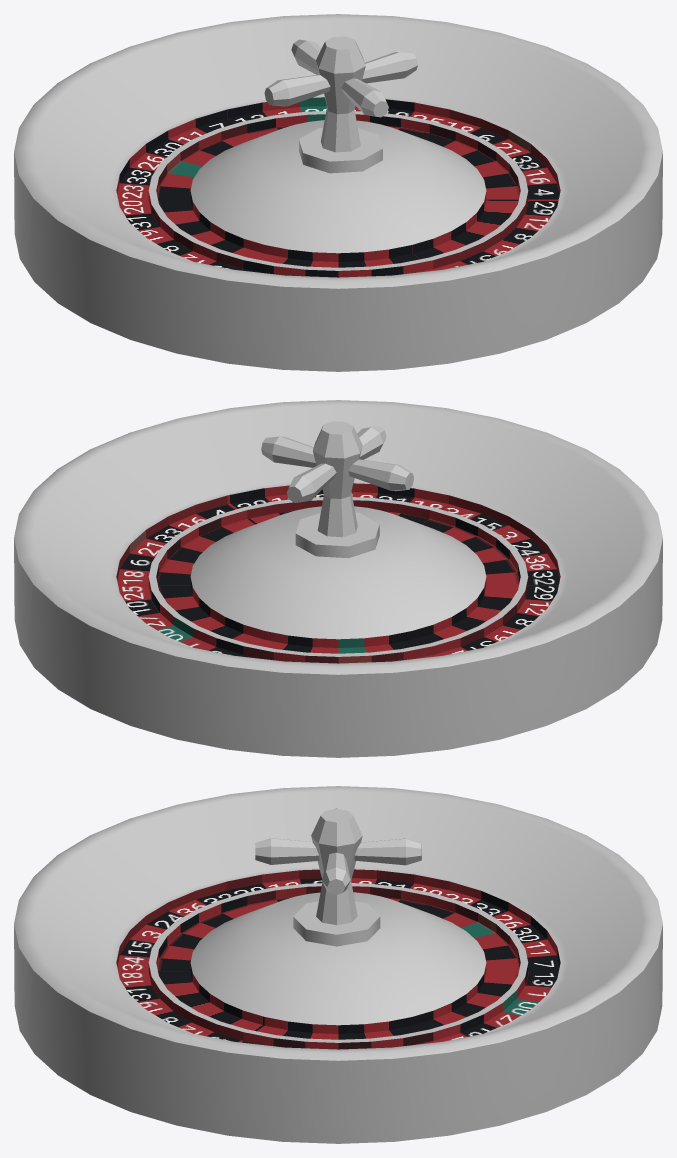
The model's file is Prop_CasinoTable_1.FBX.
3 views of the same model, one above another, from view 1: azimuth 30°, elevation 25°; view 2: azimuth 150°, elevation 25°; view 3: azimuth 270°, elevation 25° (orthographic).
Parts seen in each view (by area): view 1: Prop_CasinoTable_1; view 2: Prop_CasinoTable_1; view 3: Prop_CasinoTable_1.
Boxes of the visible parts, x1=… form: Prop_CasinoTable_1: x1=14, y1=14, x2=662, y2=371; Prop_CasinoTable_1: x1=14, y1=400, x2=662, y2=757; Prop_CasinoTable_1: x1=14, y1=786, x2=662, y2=1143.
Size of the model in its own units: 0.9001 by 0.2941 by 0.9001.
